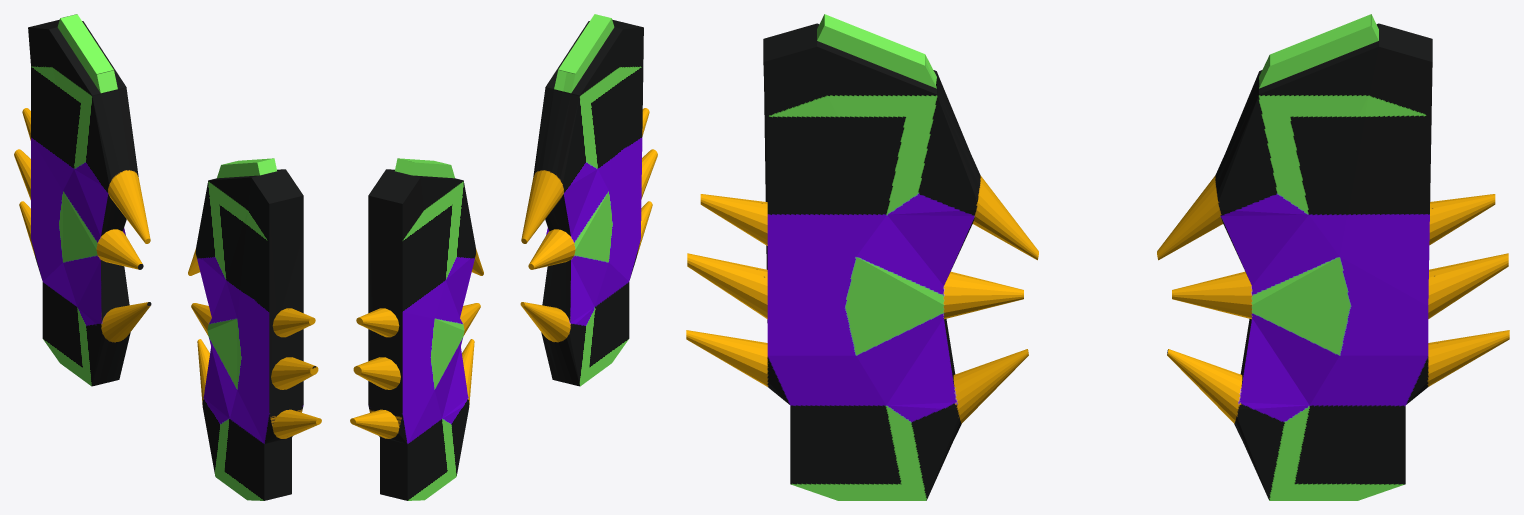
Rendered from Refuel Station.fbx.
3 renders of one model, left to right at view 1: azimuth 30°, elevation 25°; view 2: azimuth 150°, elevation 25°; view 3: azimuth 270°, elevation 25°, orthographic. The views are drawn at different scales.
Visible parts, largest first — view 1: Refueal Station; view 2: Refueal Station; view 3: Refueal Station.
Part boxes in pixels (x1,y1,x2,y2): Refueal Station: [14, 14, 321, 500]; Refueal Station: [350, 14, 657, 500]; Refueal Station: [686, 14, 1509, 500].
Size of the model in its own units: 104 by 946 by 1495.
